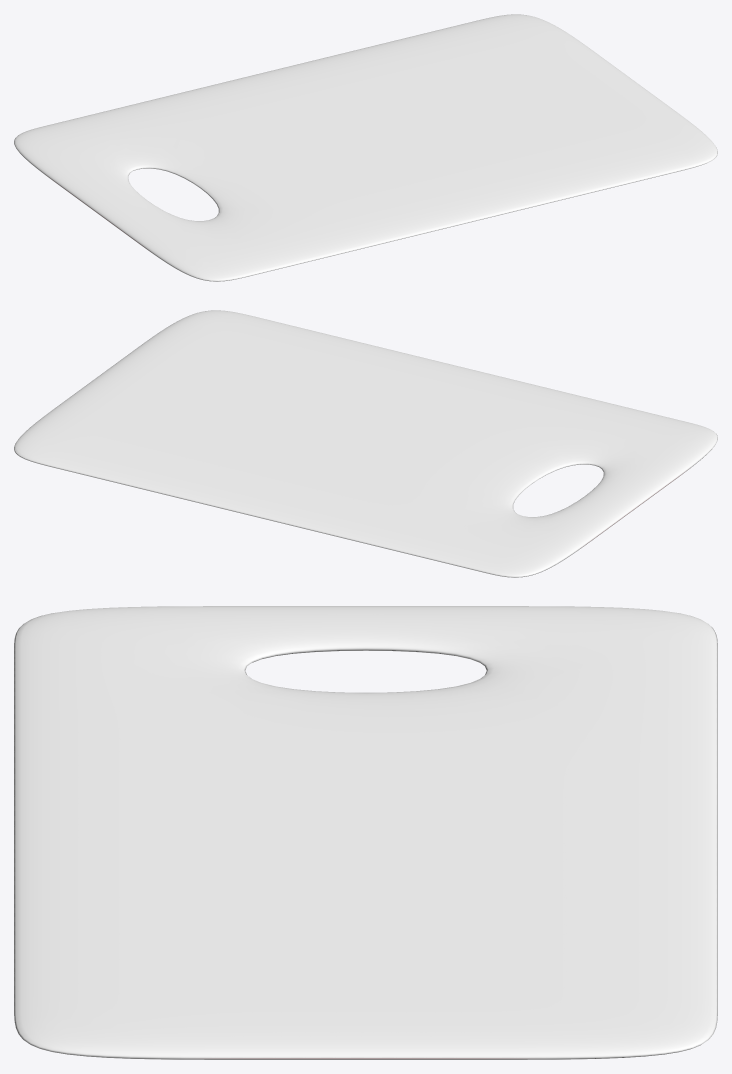
The model's file is Doma.fbx.
The picture shows the model from 3 angles, top to bottom: view 1: azimuth 30°, elevation 25°; view 2: azimuth 150°, elevation 25°; view 3: azimuth 270°, elevation 25°; orthographic projection. The views are drawn at different scales.
Parts seen in each view (by area): view 1: SM_Doma; view 2: SM_Doma; view 3: SM_Doma.
Part boxes in pixels (bbox=[...]): SM_Doma: bbox=[14, 14, 717, 281]; SM_Doma: bbox=[14, 310, 717, 577]; SM_Doma: bbox=[14, 606, 717, 1059].
Size of the model in its own units: 99.03 by 1.5 by 65.28.
